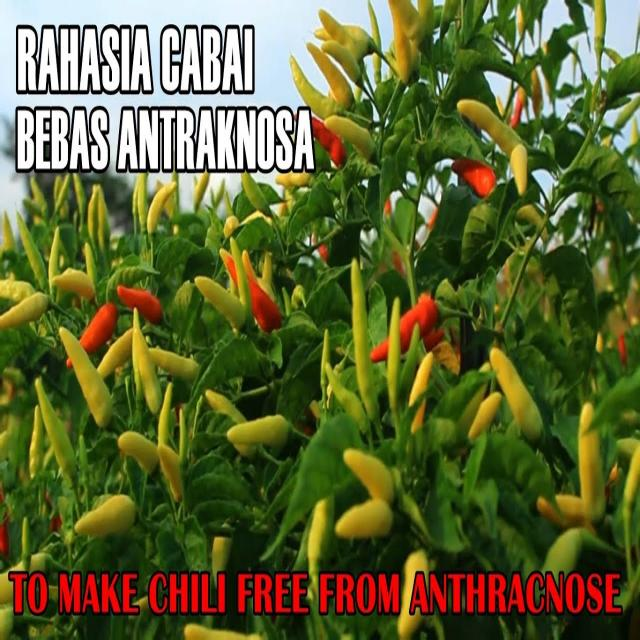green chilli: (59, 327, 112, 428), (492, 348, 544, 440), (351, 257, 378, 418), (132, 307, 162, 414), (318, 9, 376, 61), (344, 449, 394, 504), (74, 495, 134, 536), (335, 499, 393, 538), (226, 414, 290, 447), (0, 292, 48, 329), (322, 38, 361, 83), (118, 431, 158, 474), (51, 268, 94, 300)
